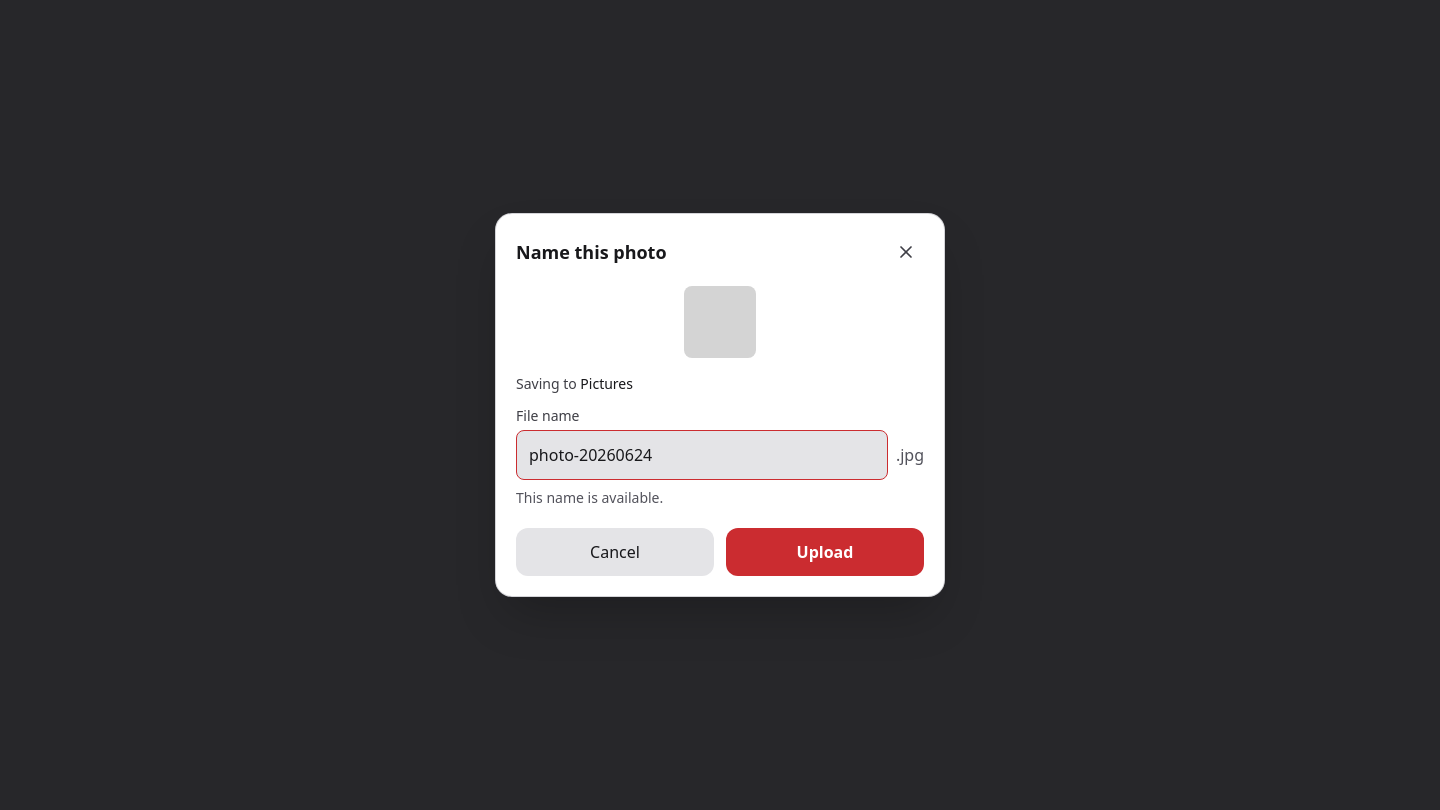
it: NameImageModal › requires a non-empty name
Clear the field labelled "File name" at (702, 455), box [516,430,888,480]
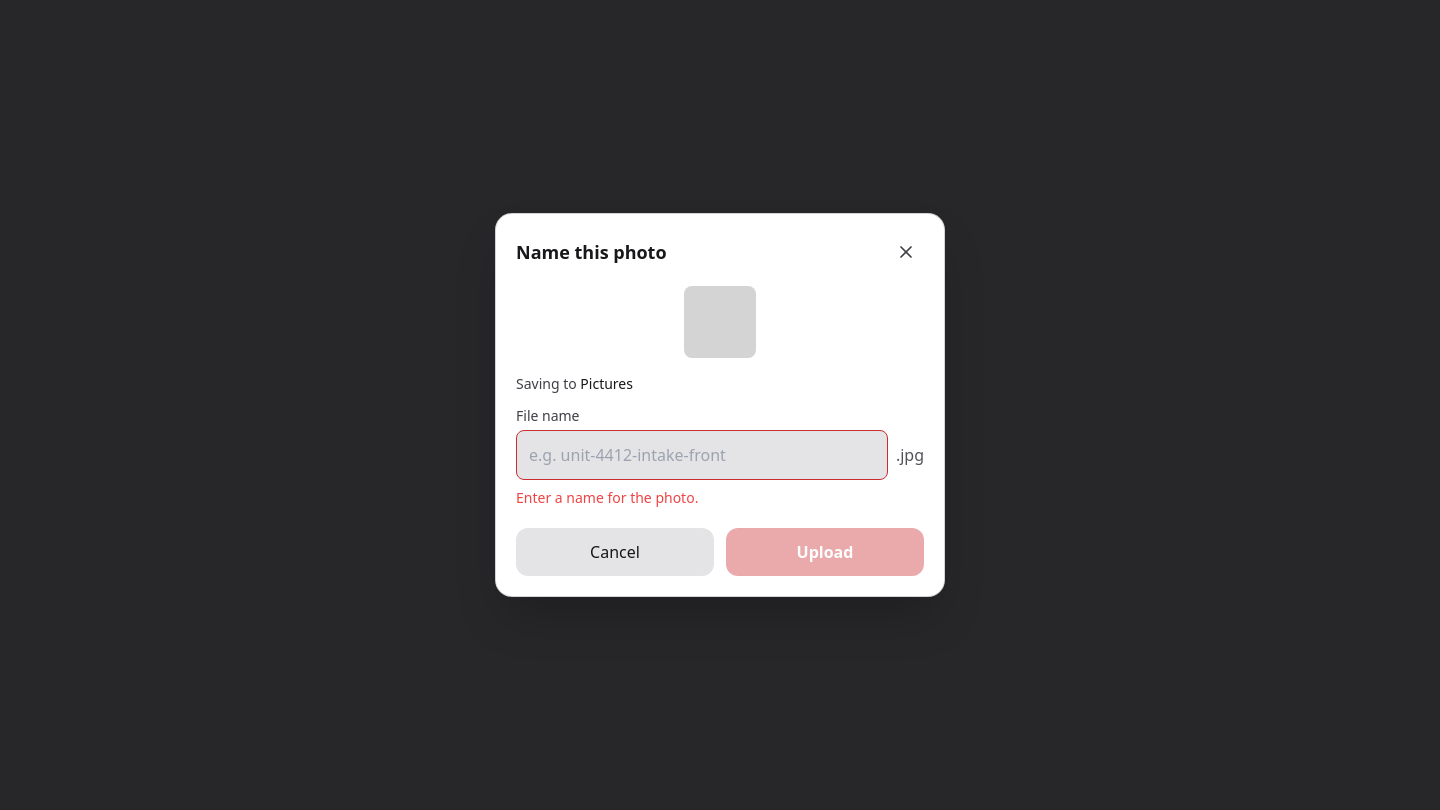
expect the text "Enter a name for the photo." is shown: met, box [516,488,698,507]
